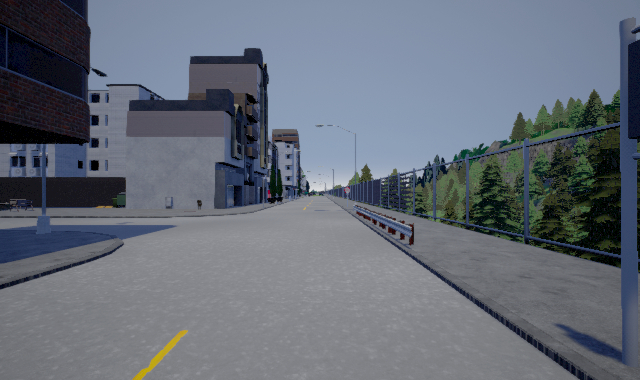traffic_light: (628, 39, 640, 139)
traffic_sign: (343, 186, 352, 194)
